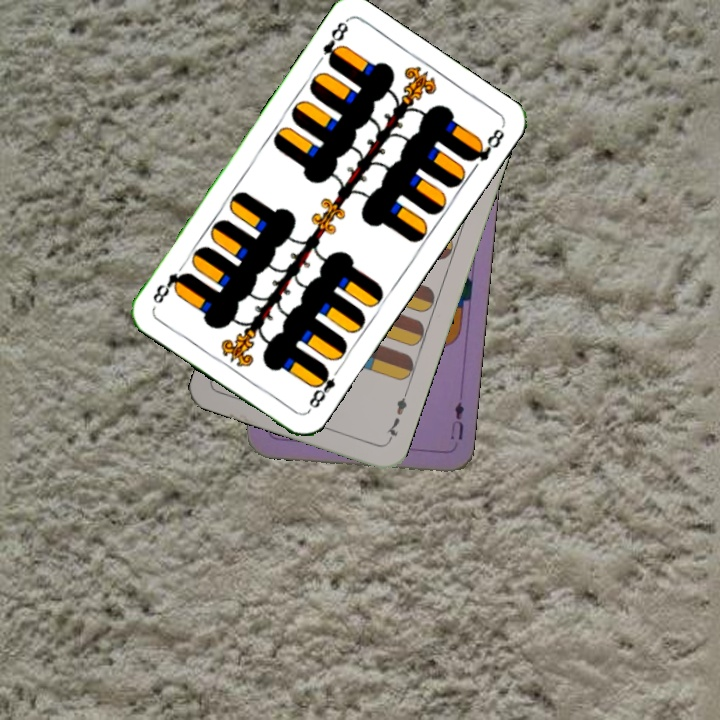E7: (382, 388, 410, 445)
E8: (304, 363, 344, 411), (318, 17, 351, 69)
EU: (446, 398, 467, 443)
